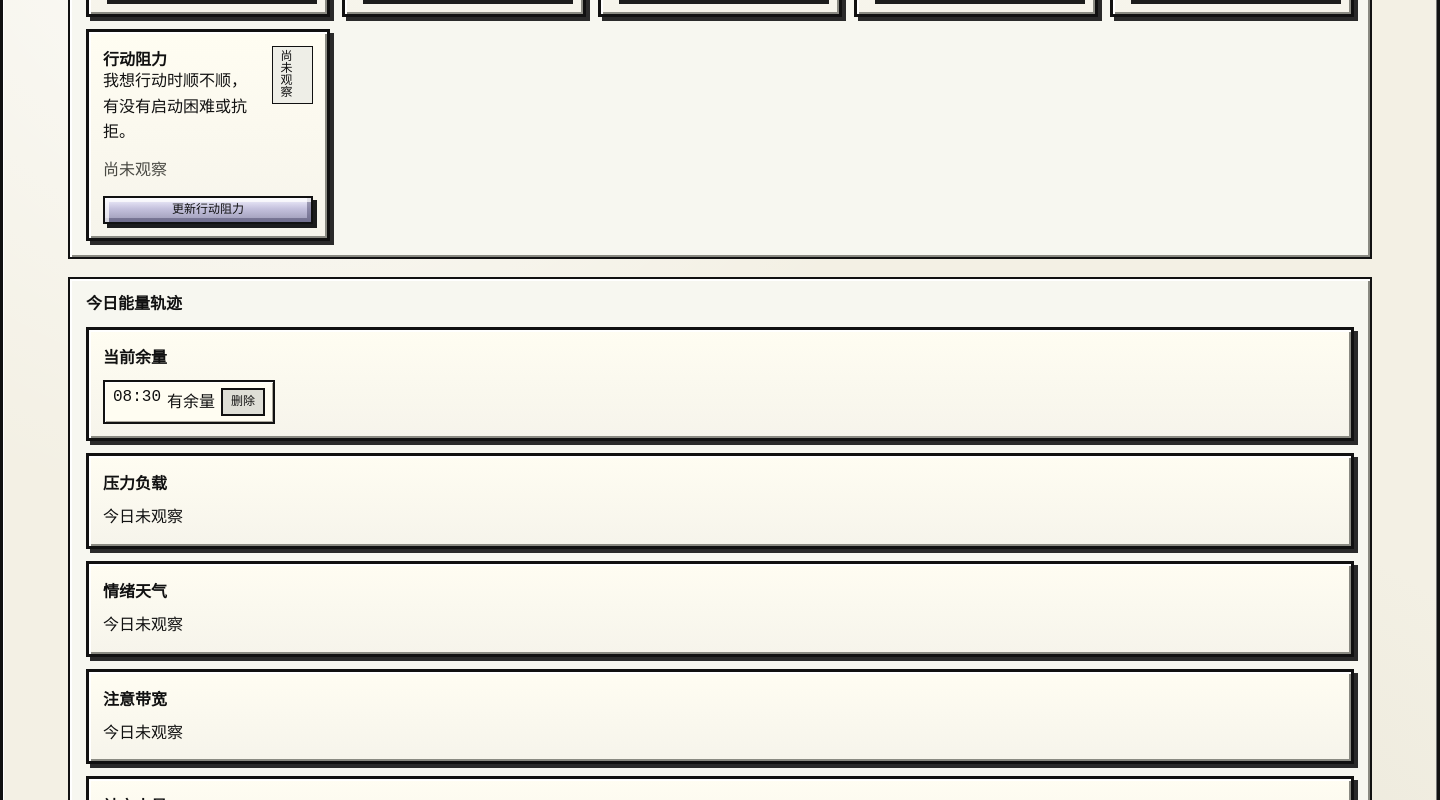
Test: EnergyManagementPanel › lets the user delete an observed timeline option after a mistaken tap
(page scrolled)
Expected: the text "有余量" is shown, [167, 388, 215, 416]
Click the button with aria-label "删除当前余量 08:30 有余量" at coordinates (243, 402), box [221, 388, 265, 416]
(page scrolled)
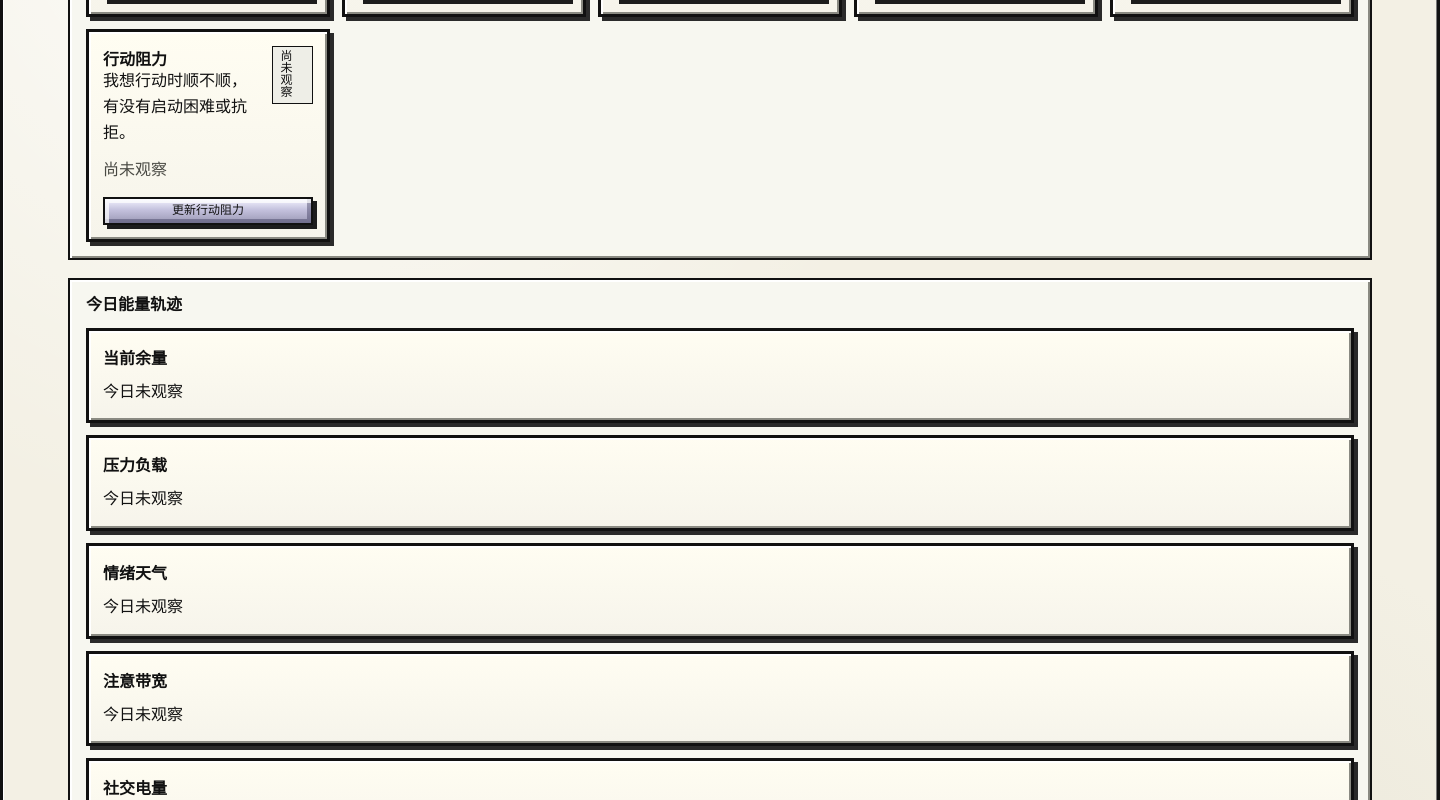
Expected: the list item "有余量" is not shown
Expected: the 1st text "今日未观察" is shown, [103, 384, 183, 402]
